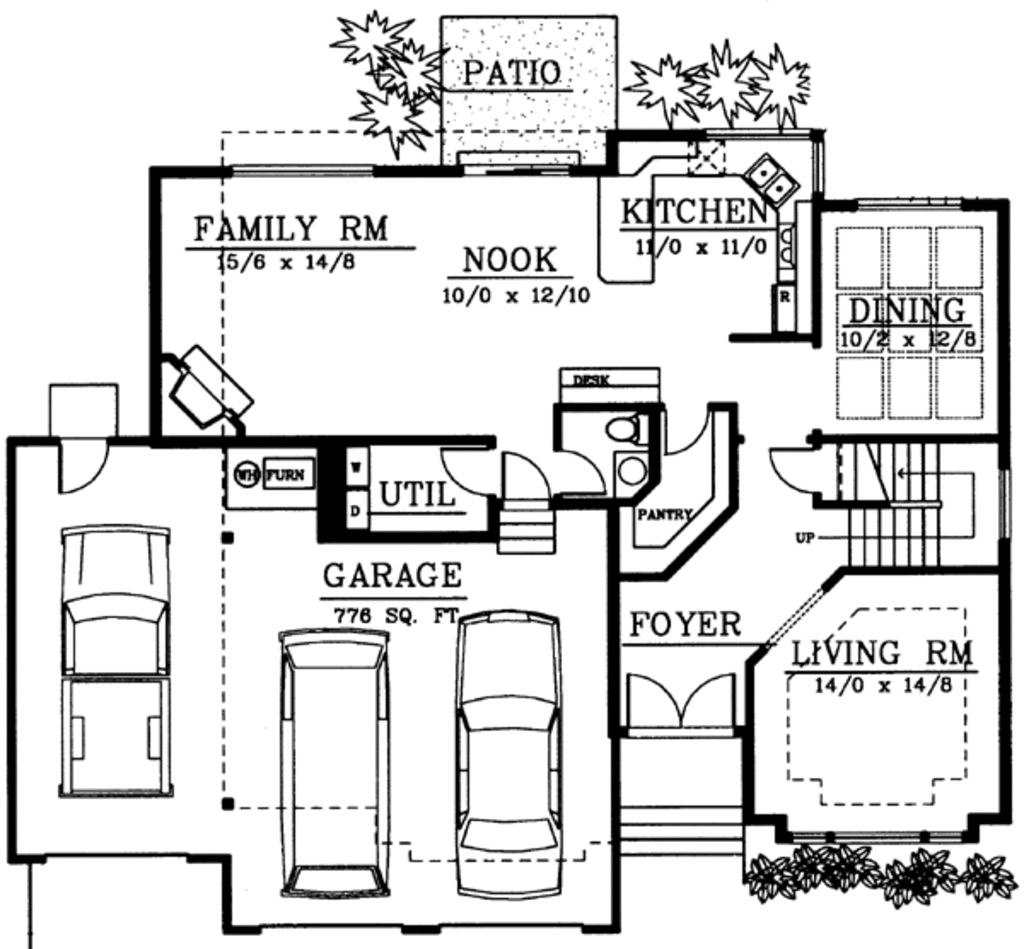door: (618, 667, 753, 745), (27, 423, 127, 494), (767, 433, 846, 504), (546, 439, 612, 502), (442, 444, 496, 501), (662, 395, 708, 458), (505, 449, 553, 505)
large_sink: (599, 405, 656, 458)
small_sink: (612, 449, 649, 498)
stairs: (833, 432, 998, 569), (611, 777, 745, 864)
twin_sink: (742, 147, 800, 224)
window: (450, 136, 583, 186), (852, 185, 971, 223), (230, 160, 390, 180), (706, 122, 818, 138)
